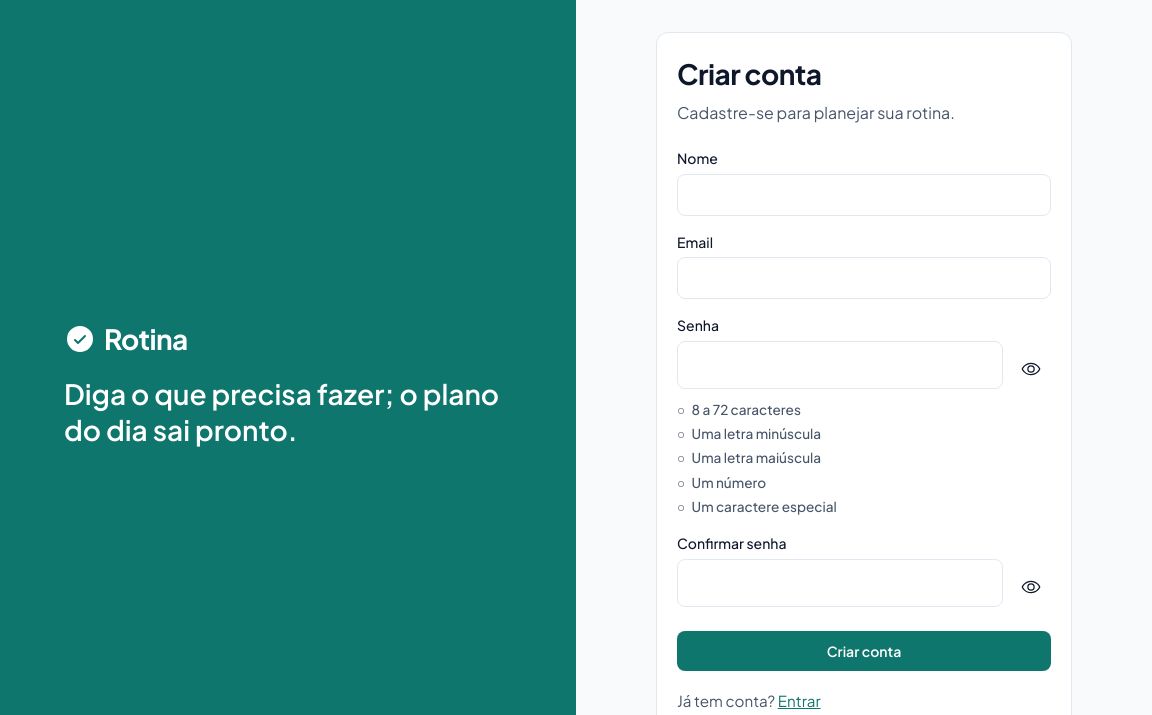
CadastroPage › mostra erro quando as senhas não conferem
The image size is (1152, 715).
Type "Ana Silva" into the field labelled "Nome" at {"x": 864, "y": 195}, box [677,174,1051,216]
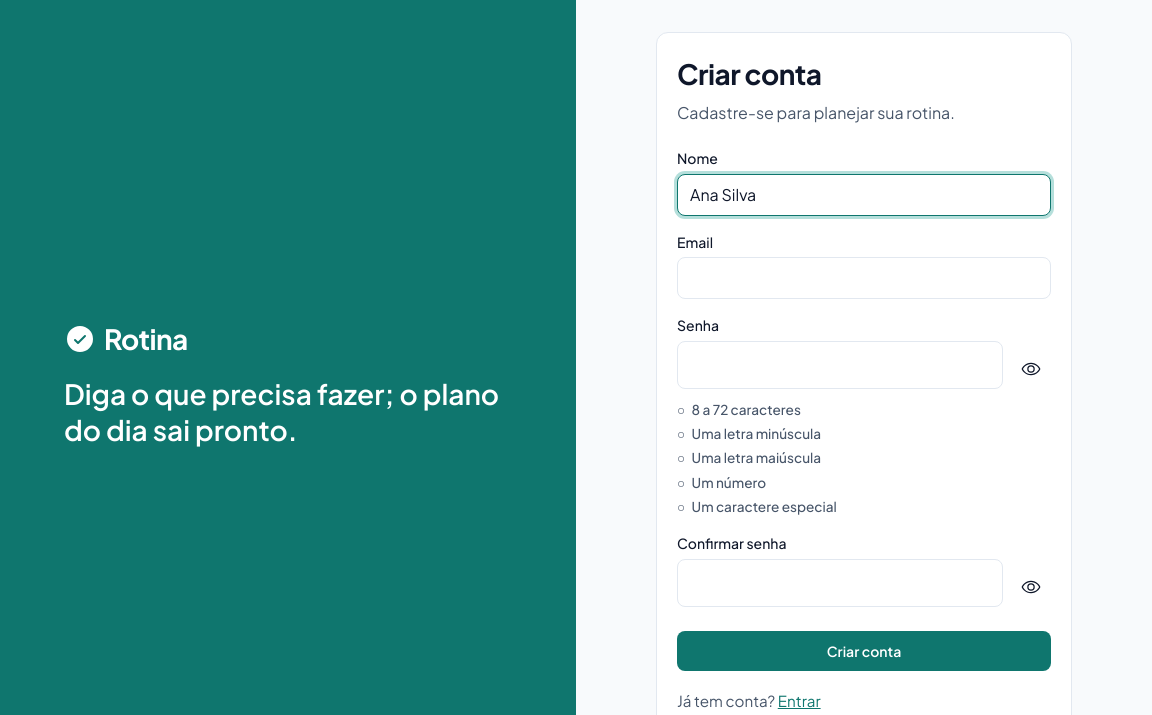
Type "ana@email.com" into the field labelled "Email" at {"x": 864, "y": 278}, box [677,257,1051,299]
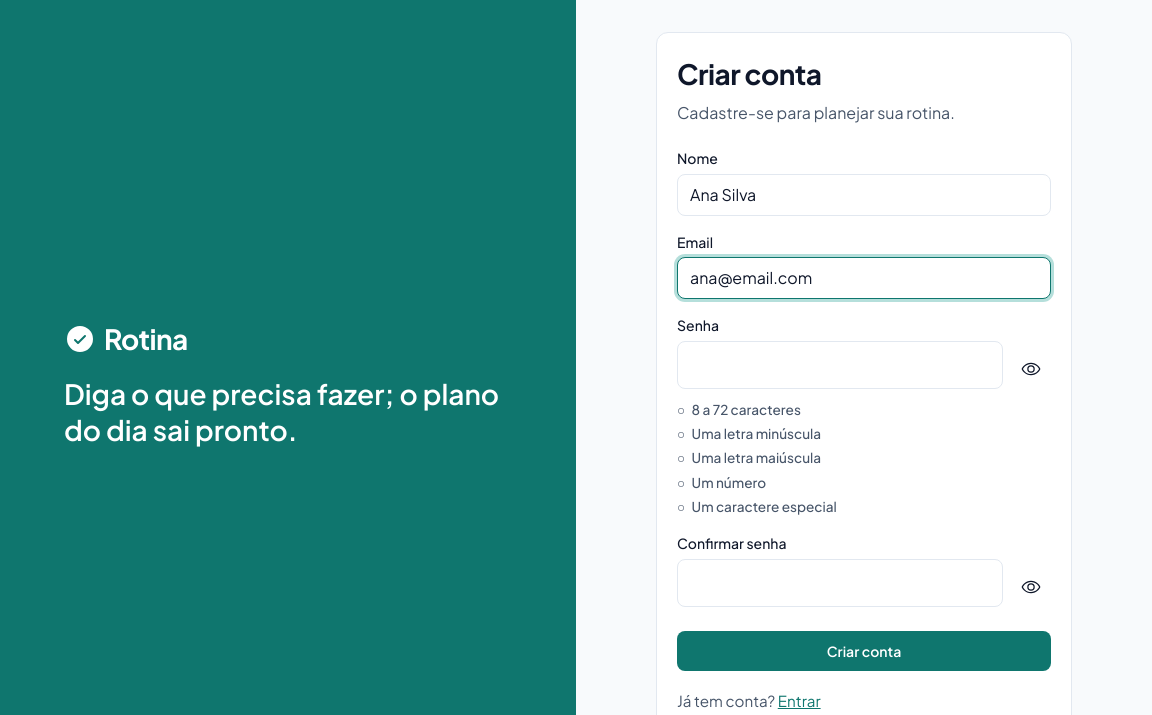
Type "Senha@123" into the password field labelled "Senha" at {"x": 840, "y": 365}, box [677,341,1003,389]
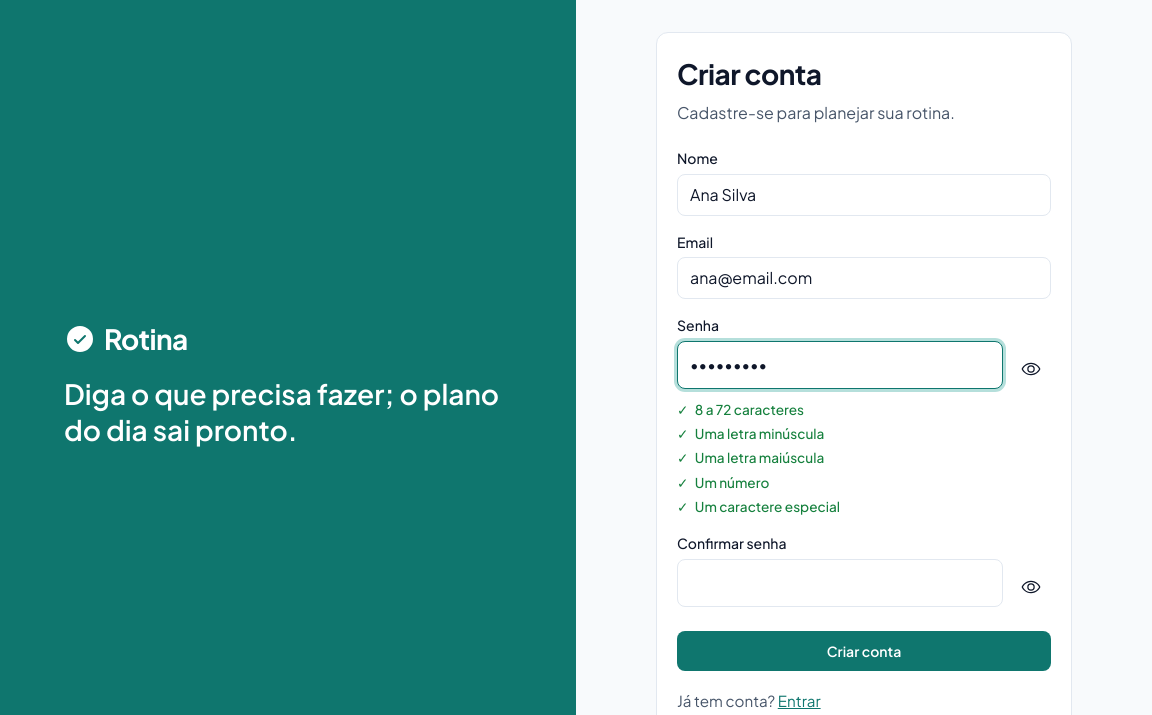
Type "Senha@999" into the password field labelled "Confirmar senha" at {"x": 840, "y": 583}, box [677,559,1003,607]
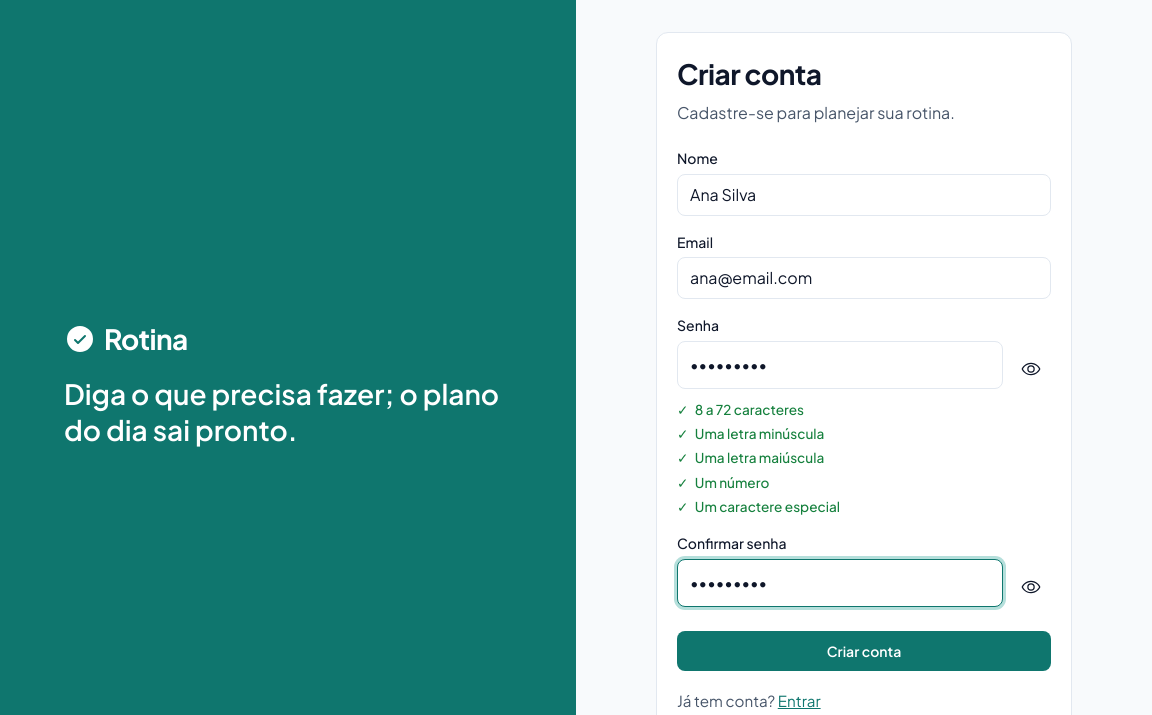
Click the button "Criar conta" at {"x": 864, "y": 651}, box [677,631,1051,671]
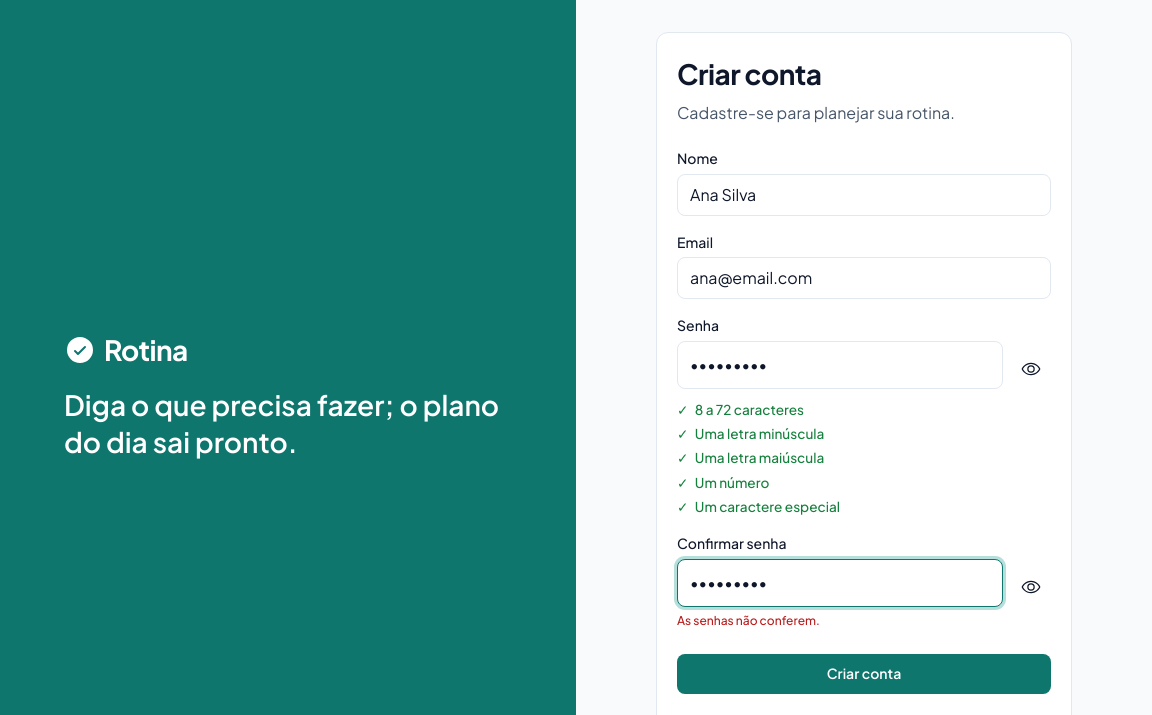
expect the message shows "senhas não conferem": met, box [677,613,820,628]
